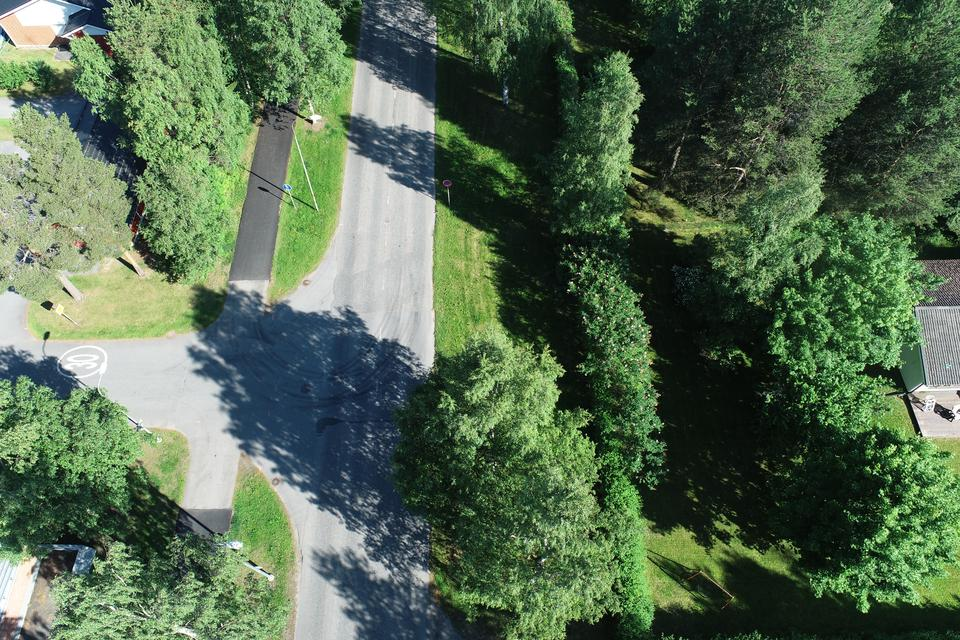intersection: (149, 267, 473, 493)
